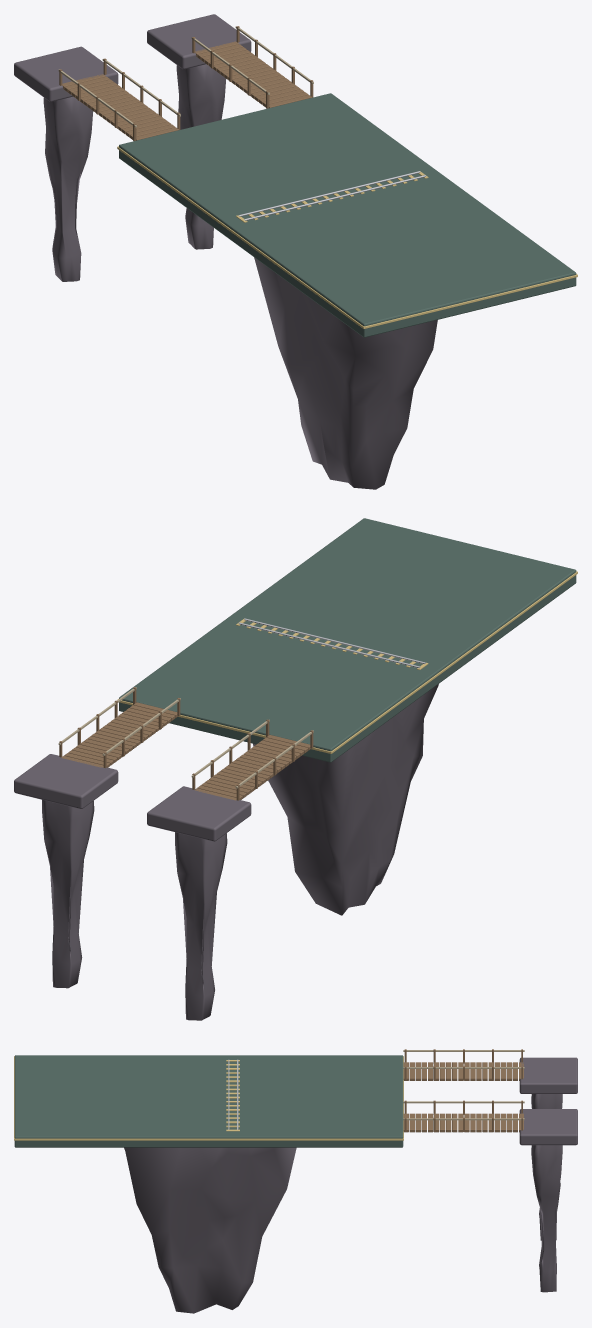
Rendered from stage_01.glb.
The picture shows the model from 3 angles, top to bottom: view 1: azimuth 30°, elevation 25°; view 2: azimuth 150°, elevation 25°; view 3: azimuth 270°, elevation 25°; orthographic projection. The views are drawn at different scales.
Visible parts, largest first — view 1: floor, floor_base, spawn_left_cliff, spawn_right_cliff, bridge_left, bridge_right, spawn_left, spawn_right, floor_trim, rail, bridge_left_posts, bridge_right_posts; view 2: floor, floor_base, spawn_left_cliff, spawn_right_cliff, spawn_right, spawn_left, bridge_right, bridge_left, rail, floor_trim, bridge_right_posts, bridge_left_posts; view 3: floor, floor_base, spawn_right_cliff, bridge_right, spawn_left, spawn_right, bridge_left, floor_trim, rail, bridge_right_rope, spawn_left_cliff, bridge_left_rope (+1 smaller).
Boxes of the visible parts, x1=… form: floor: x1=119, y1=93, x2=576, y2=337; floor_base: x1=254, y1=257, x2=437, y2=489; spawn_left_cliff: x1=43, y1=96, x2=93, y2=281; spawn_right_cliff: x1=176, y1=64, x2=226, y2=249; bridge_left: x1=62, y1=74, x2=178, y2=140; bridge_right: x1=195, y1=41, x2=311, y2=108; spawn_left: x1=14, y1=46, x2=118, y2=101; spawn_right: x1=147, y1=14, x2=251, y2=69; floor_trim: x1=117, y1=146, x2=577, y2=328; rail: x1=236, y1=171, x2=428, y2=222; bridge_left_posts: x1=59, y1=58, x2=180, y2=140; bridge_right_posts: x1=192, y1=26, x2=313, y2=108; floor: x1=119, y1=518, x2=576, y2=762; floor_base: x1=253, y1=684, x2=438, y2=915; spawn_left_cliff: x1=175, y1=832, x2=227, y2=1020; spawn_right_cliff: x1=42, y1=799, x2=94, y2=988; spawn_right: x1=14, y1=754, x2=118, y2=808; spawn_left: x1=147, y1=786, x2=251, y2=841; bridge_right: x1=61, y1=702, x2=178, y2=767; bridge_left: x1=195, y1=735, x2=311, y2=800; rail: x1=236, y1=618, x2=428, y2=669; floor_trim: x1=117, y1=571, x2=577, y2=753; bridge_right_posts: x1=59, y1=687, x2=180, y2=768; bridge_left_posts: x1=192, y1=719, x2=313, y2=800; floor: x1=14, y1=1055, x2=403, y2=1147; floor_base: x1=124, y1=1147, x2=296, y2=1313; spawn_right_cliff: x1=531, y1=1145, x2=562, y2=1292; bridge_right: x1=403, y1=1113, x2=523, y2=1132; spawn_left: x1=519, y1=1057, x2=577, y2=1093; spawn_right: x1=519, y1=1109, x2=577, y2=1145; bridge_left: x1=403, y1=1062, x2=523, y2=1080; floor_trim: x1=14, y1=1056, x2=403, y2=1140; rail: x1=226, y1=1059, x2=239, y2=1131; bridge_right_rope: x1=403, y1=1101, x2=524, y2=1120; spawn_left_cliff: x1=531, y1=1094, x2=562, y2=1240; bridge_left_rope: x1=403, y1=1050, x2=524, y2=1068.
Size of what is drawn, in the model's own units: 8.06 by 10.24 by 23.23.
